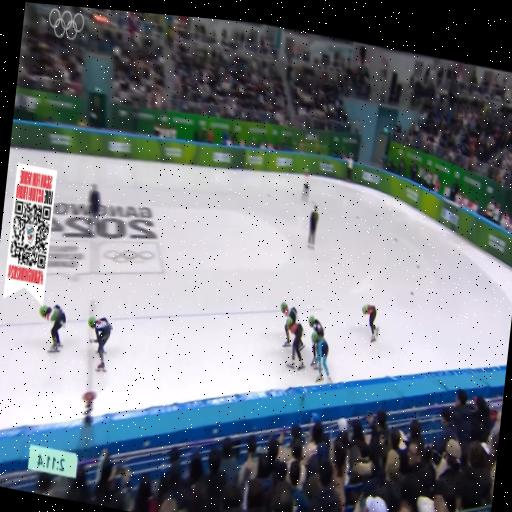Skater: (87, 317, 111, 371), (39, 305, 65, 352), (285, 317, 303, 370), (311, 331, 329, 382), (361, 304, 378, 342), (280, 302, 296, 323), (310, 342, 316, 368)
